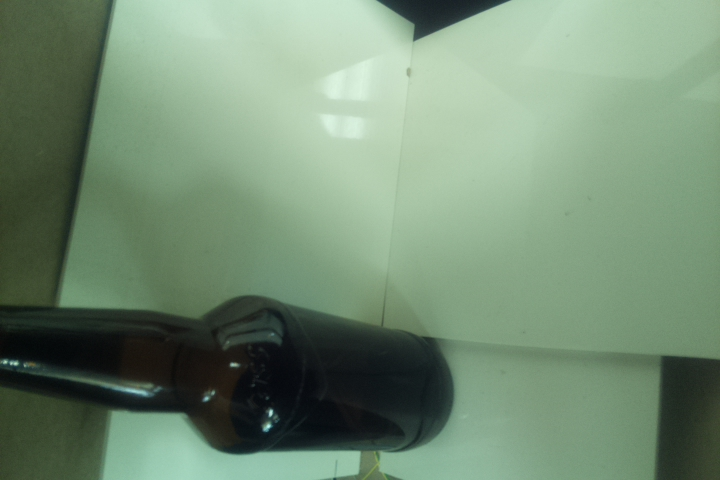makju: (1, 291, 457, 455)
